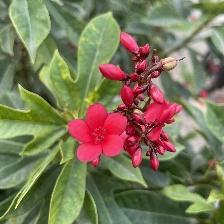jatropha: (68, 104, 130, 165)
